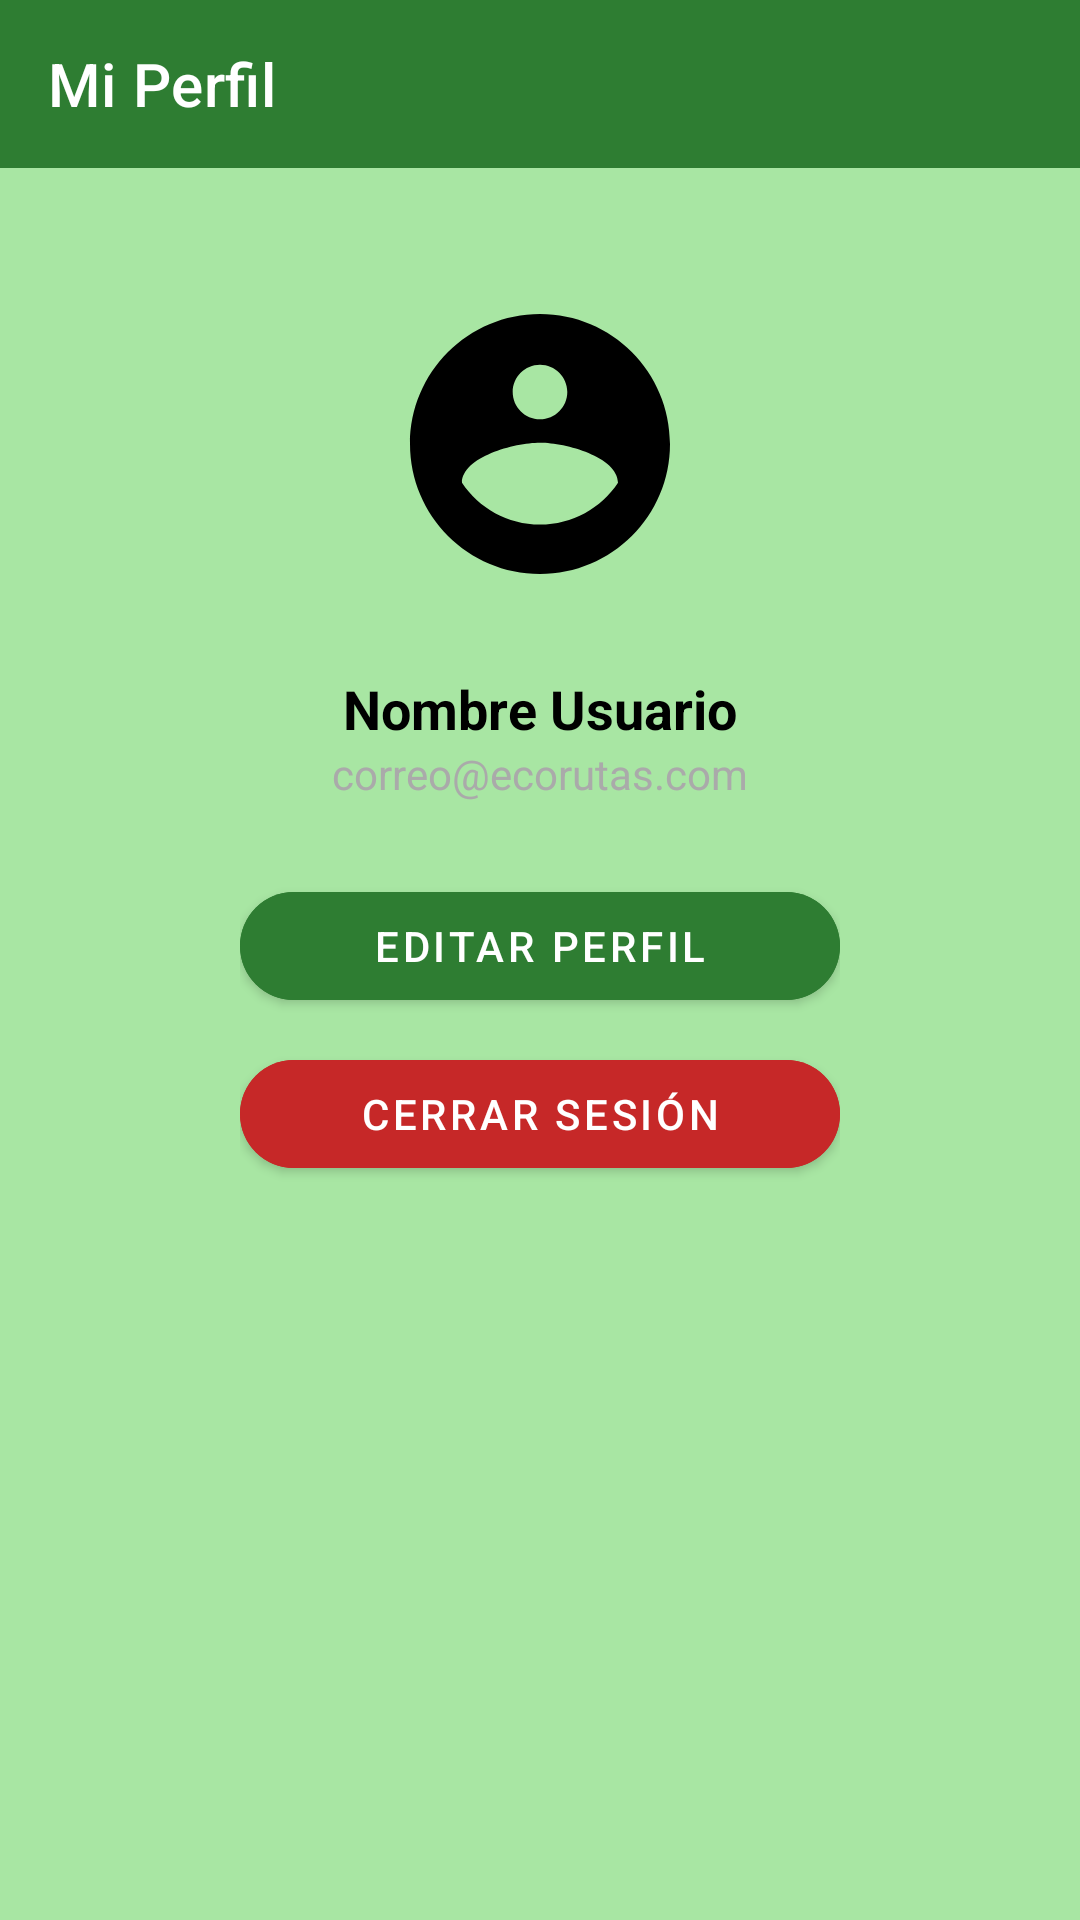

Screen size 1080px x 1920px. Icon name, then its box in pixels as (x1=x1, y1=y1, x2=x2, y2=y2):
person: (x1=410, y1=314, x2=670, y2=574)
